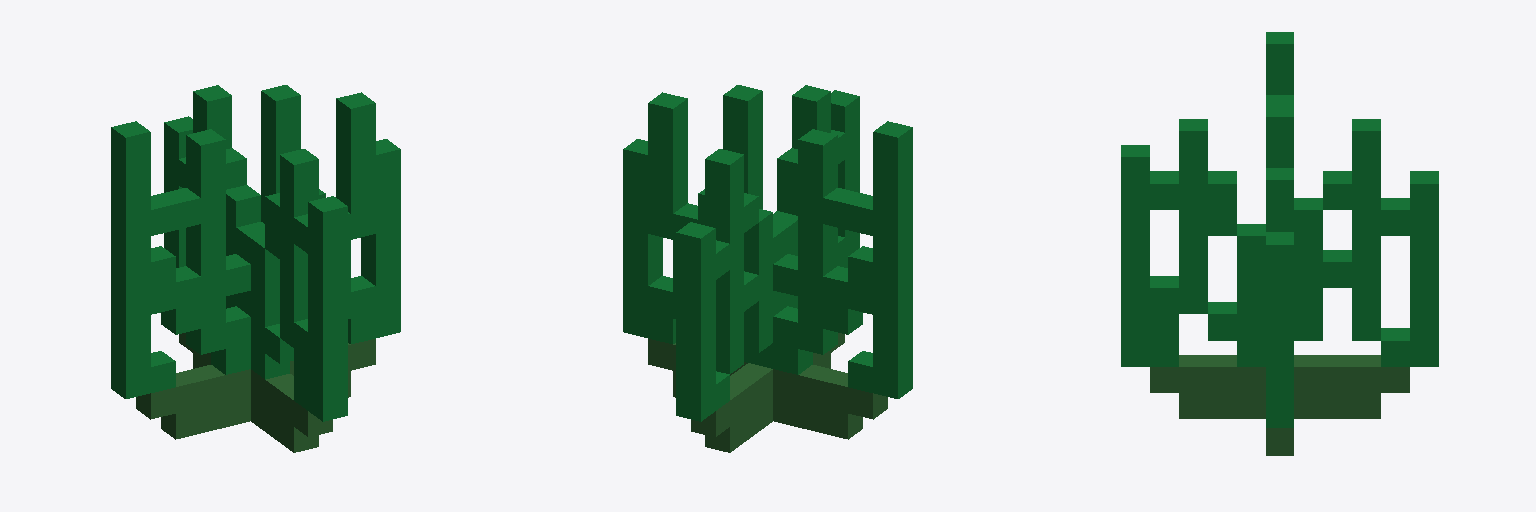
The picture shows the model from 3 angles: view 1: azimuth 30°, elevation 25°; view 2: azimuth 150°, elevation 25°; view 3: azimuth 270°, elevation 25°; orthographic projection.
Parts seen in each view (by area): view 1: object 1; view 2: object 1; view 3: object 1.
Boxes of the visible parts, x1,y1,x2,y2 form: object 1: [111, 85, 400, 452]; object 1: [623, 85, 912, 452]; object 1: [1121, 32, 1438, 455].
Size of the model in its own units: 1.1 by 1.2 by 1.1.
1 materials, 1 textured.